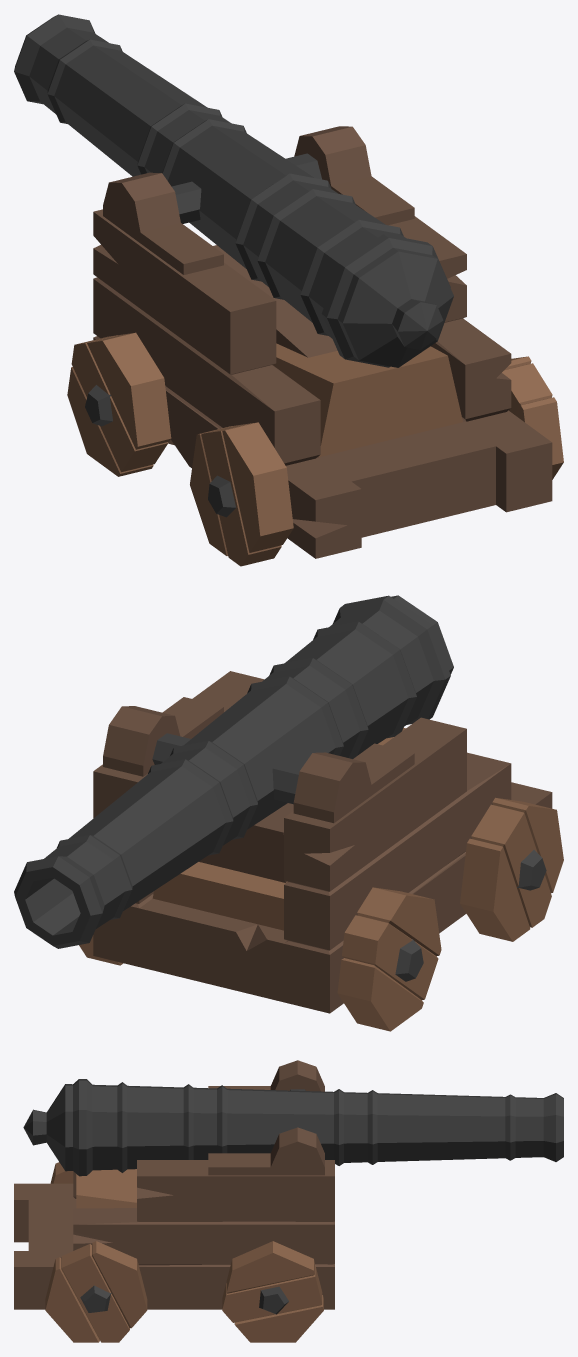
The model's file is Cannon.fbx.
3 renders of one model, top to bottom at view 1: azimuth 30°, elevation 25°; view 2: azimuth 150°, elevation 25°; view 3: azimuth 270°, elevation 25°, orthographic. The views are drawn at different scales.
Parts seen in each view (by area): view 1: Cannon; view 2: Cannon; view 3: Cannon.
Part boxes in pixels (x1,y1,x2,y2): Cannon: [14, 14, 563, 566]; Cannon: [14, 595, 563, 1031]; Cannon: [14, 1060, 563, 1342].
Bounding box in the file's own units: 1.01 × 2.07 × 0.8656.
